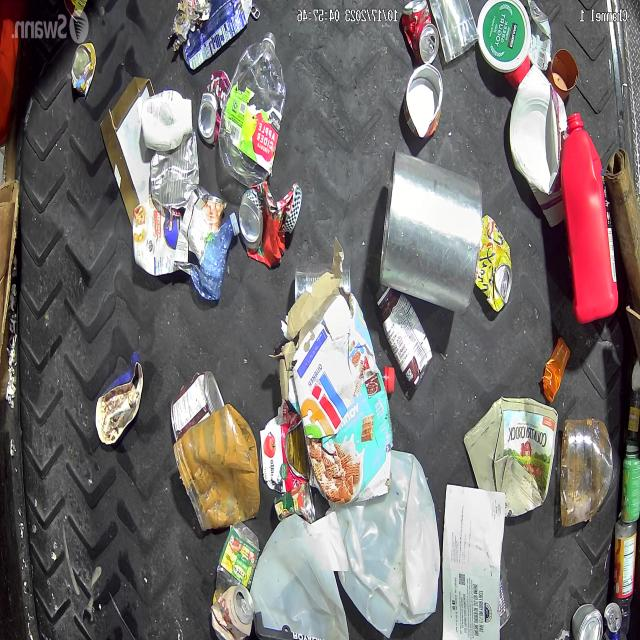can: (238, 180, 303, 269), (173, 188, 223, 281), (170, 369, 226, 443), (150, 130, 200, 208), (475, 214, 512, 314), (399, 0, 440, 64), (197, 67, 230, 146), (211, 582, 255, 640), (294, 263, 352, 302), (76, 36, 104, 90), (571, 602, 604, 640), (603, 600, 623, 640)
milk_jug: (324, 449, 440, 638), (250, 515, 349, 640)
non_white_jug: (562, 107, 619, 319)
plastic_bottle: (218, 31, 286, 186)
